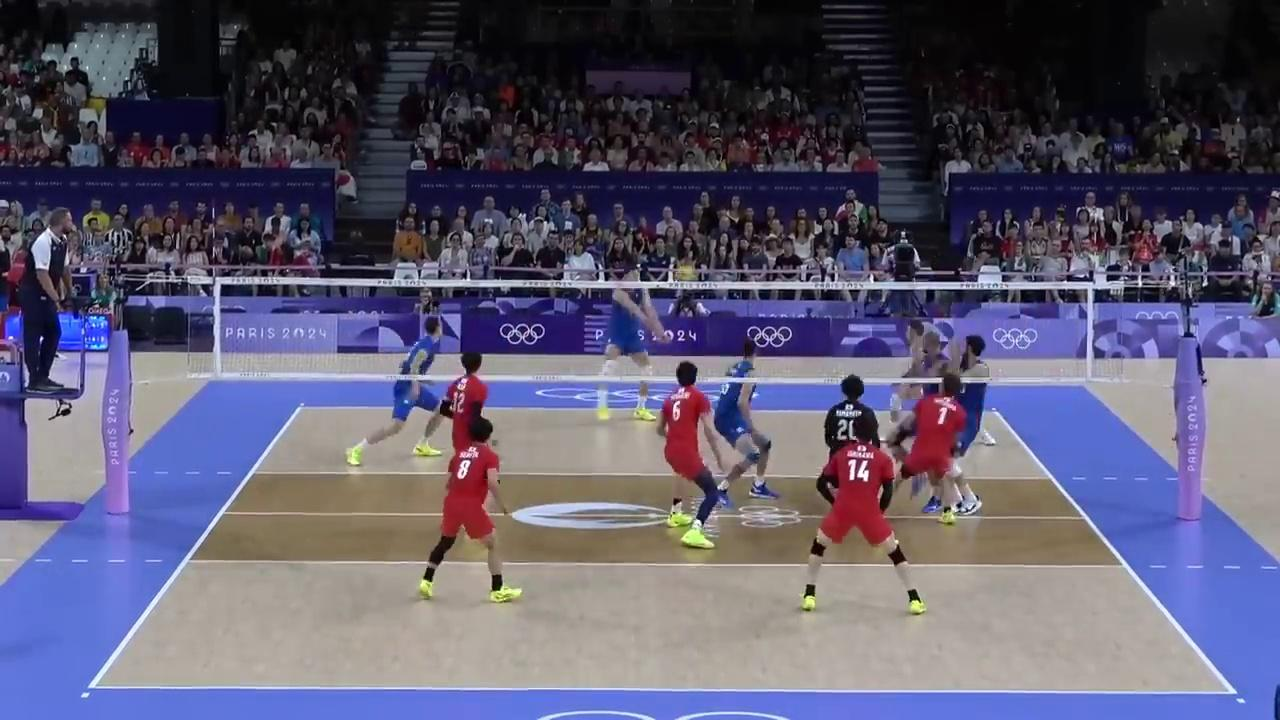ball: (674, 266, 695, 283)
